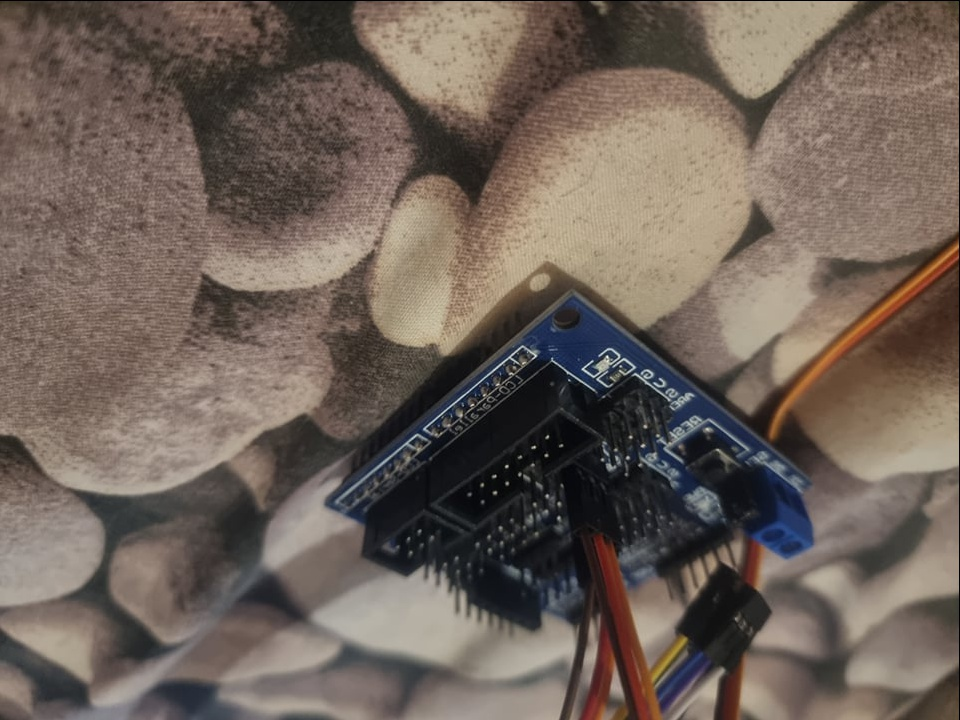5V EXPANSION: (322, 285, 815, 646)
